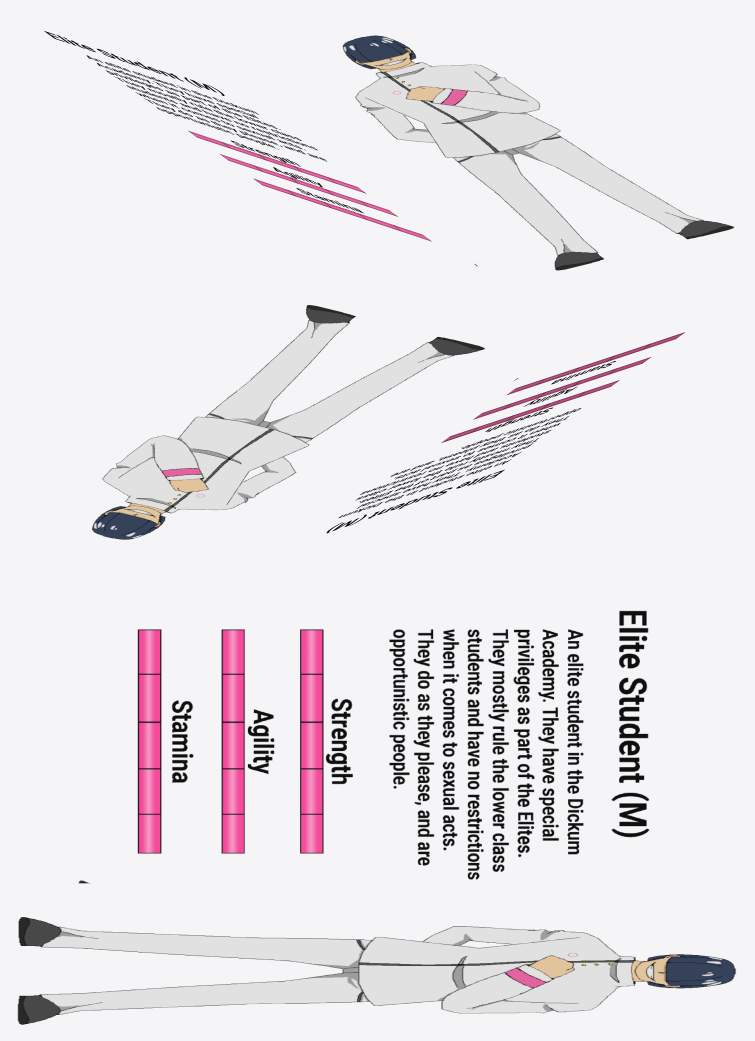
File: asset.glb
3 views of the same model, one above another, from view 1: azimuth 30°, elevation 25°; view 2: azimuth 150°, elevation 25°; view 3: azimuth 270°, elevation 25° (orthographic). The views are drawn at different scales.
Visible parts, largest first — view 1: Elite 1 v2 Transparent, Sheet Transparent; view 2: Elite 1 v2 Transparent, Sheet Transparent; view 3: Elite 1 v2 Transparent, Sheet Transparent.
Part boxes in pixels (box(x1,y1,x2,y2)): Elite 1 v2 Transparent: box(342, 35, 733, 270); Sheet Transparent: box(44, 31, 477, 266); Elite 1 v2 Transparent: box(92, 305, 484, 539); Sheet Transparent: box(326, 332, 684, 533); Elite 1 v2 Transparent: box(18, 917, 735, 1024); Sheet Transparent: box(79, 611, 649, 883).
Bounding box in the file's own units: 3.72 × 0.9951 × 4.12.
Materials: 2 (2 with a texture image).
